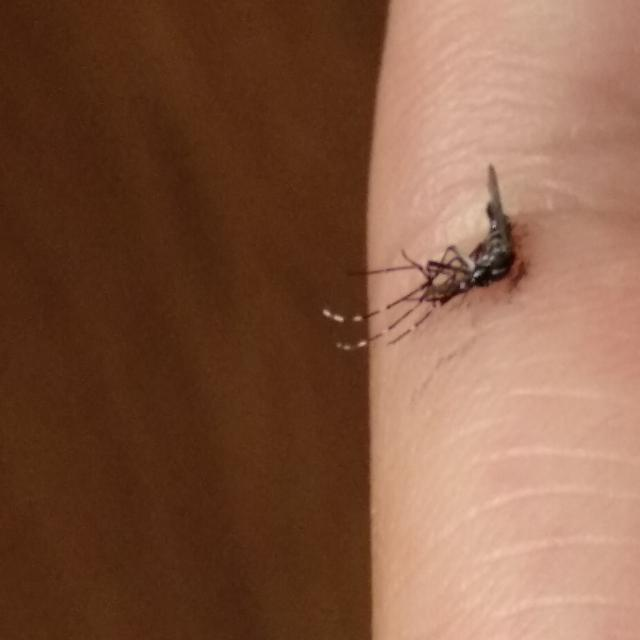albopictus: (322, 151, 536, 364)
